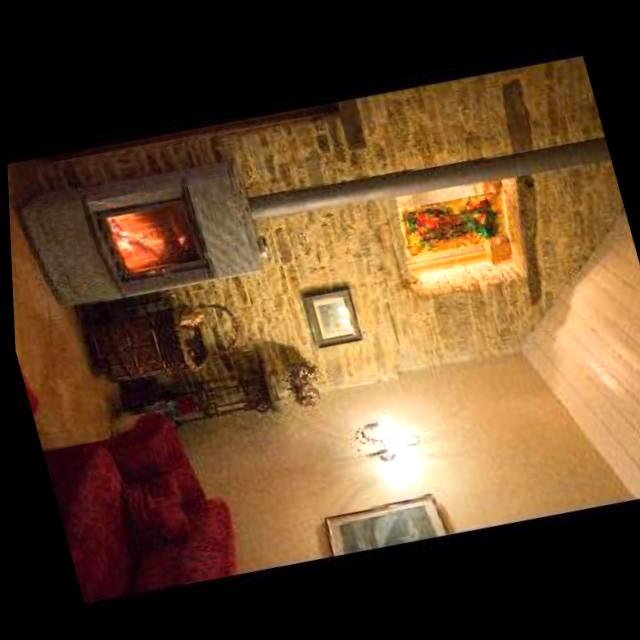fire: (100, 188, 204, 278)
